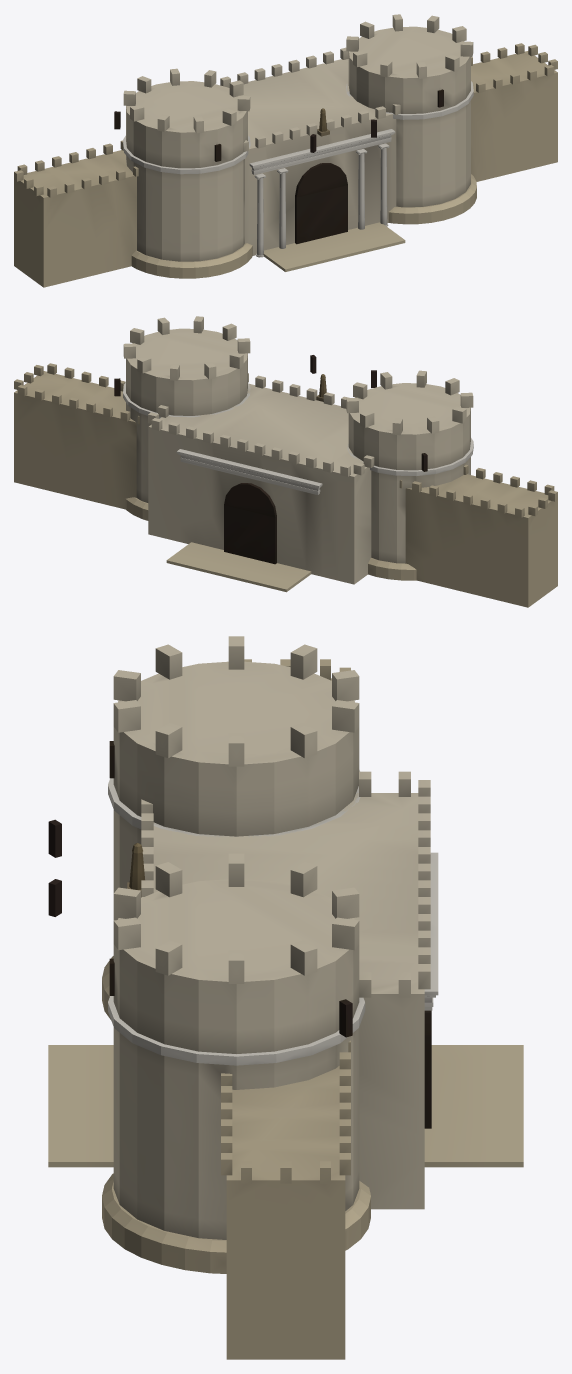
File: city-gate.glb
3 views of the same model, one above another, from view 1: azimuth 30°, elevation 25°; view 2: azimuth 150°, elevation 25°; view 3: azimuth 270°, elevation 25° (orthographic). The views are drawn at different scales.
Visible parts, largest first — view 1: p1_gate, p0_walls, p2_battlements; view 2: p1_gate, p0_walls, p2_battlements; view 3: p1_gate, p0_walls, p2_battlements.
Boxes of the visible parts, x1,y1,x2,y2 form: p1_gate: [123, 26, 476, 278]; p0_walls: [14, 43, 557, 287]; p2_battlements: [114, 14, 473, 174]; p1_gate: [123, 328, 473, 584]; p0_walls: [14, 363, 557, 607]; p2_battlements: [114, 316, 473, 494]; p1_gate: [102, 661, 431, 1273]; p0_walls: [48, 659, 523, 1359]; p2_battlements: [48, 636, 438, 1037].
Size of the model in its own units: 60.8 by 17.3 by 24.
